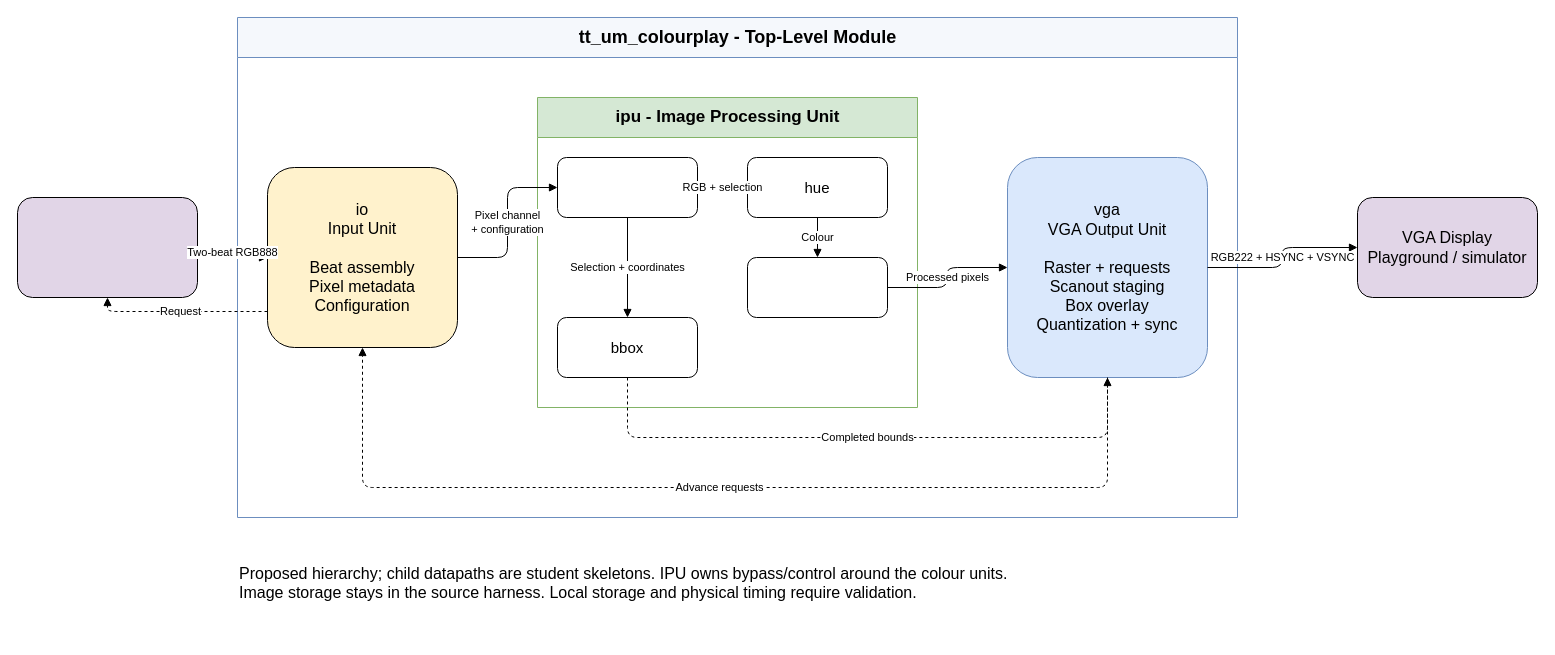
The diagram is 1555 pixels wide and 655 high, and some of its shapes have lost their labels. Here are the shapes that lost their labels. From the top down, the centre of each, then its label:
At point (627, 187): "colour_detect".
At point (107, 247): "Prepared Image Source Instructor harness".
At point (817, 287): "contrast".
